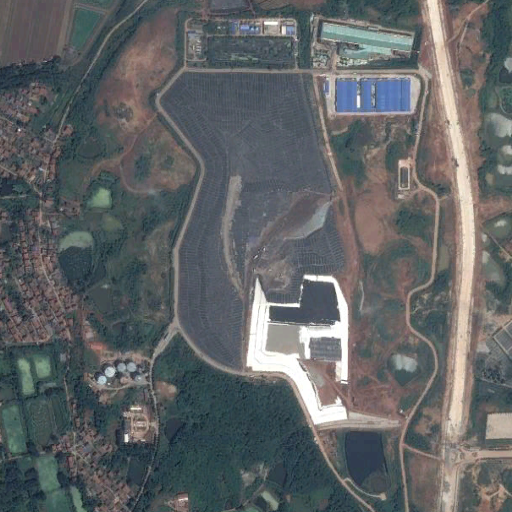lf: (153, 71, 349, 426)
